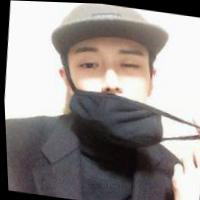WRONG: (61, 35, 161, 135)
